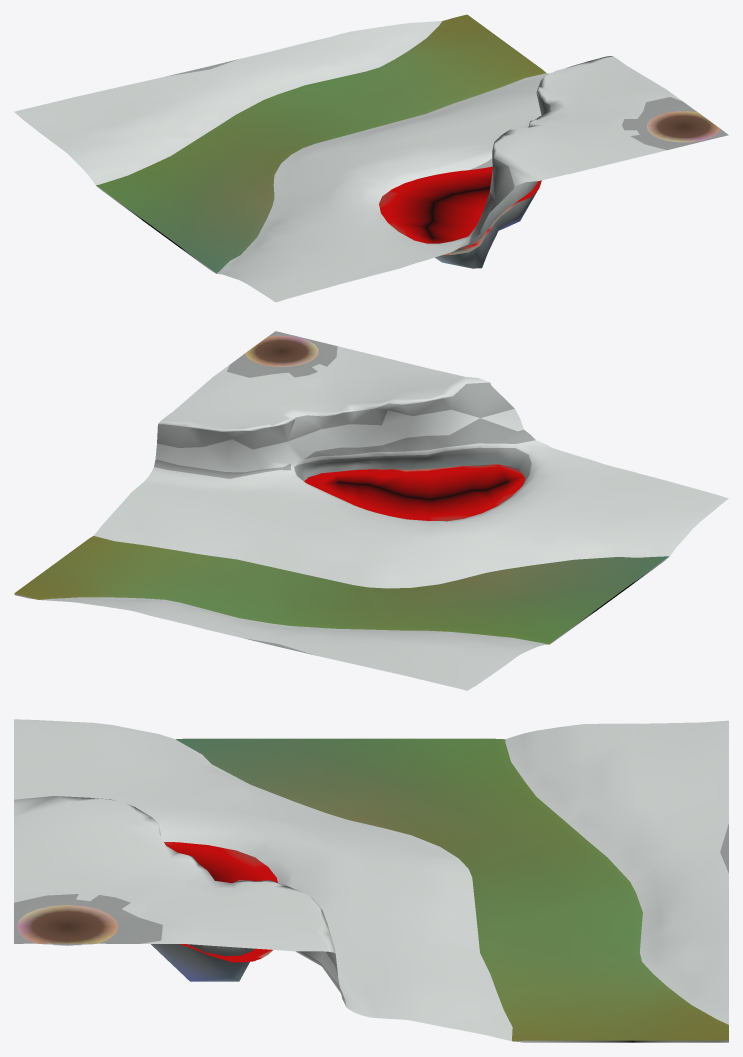
The picture shows the model from 3 angles, top to bottom: view 1: azimuth 30°, elevation 25°; view 2: azimuth 150°, elevation 25°; view 3: azimuth 270°, elevation 25°; orthographic projection. The views are drawn at different scales.
Parts seen in each view (by area): view 1: G:\FFXIV-MapTools\exports\r2f1\bg\ex1\01_roc_r2\fld\r2f1\bgp (×8); view 2: G:\FFXIV-MapTools\exports\r2f1\bg\ex1\01_roc_r2\fld\r2f1\bgp (×9); view 3: G:\FFXIV-MapTools\exports\r2f1\bg\ex1\01_roc_r2\fld\r2f1\bgp (×8).
Part boxes in pixels (left/top/right/bottom): G:\FFXIV-MapTools\exports\r2f1\bg\ex1\01_roc_r2\fld\r2f1\bgp (×8): left=14, top=14, right=728, bottom=302; G:\FFXIV-MapTools\exports\r2f1\bg\ex1\01_roc_r2\fld\r2f1\bgp (×9): left=14, top=331, right=728, bottom=690; G:\FFXIV-MapTools\exports\r2f1\bg\ex1\01_roc_r2\fld\r2f1\bgp (×8): left=14, top=719, right=728, bottom=1042.
Size of the model in its own units: 128 by 29.56 by 128.
